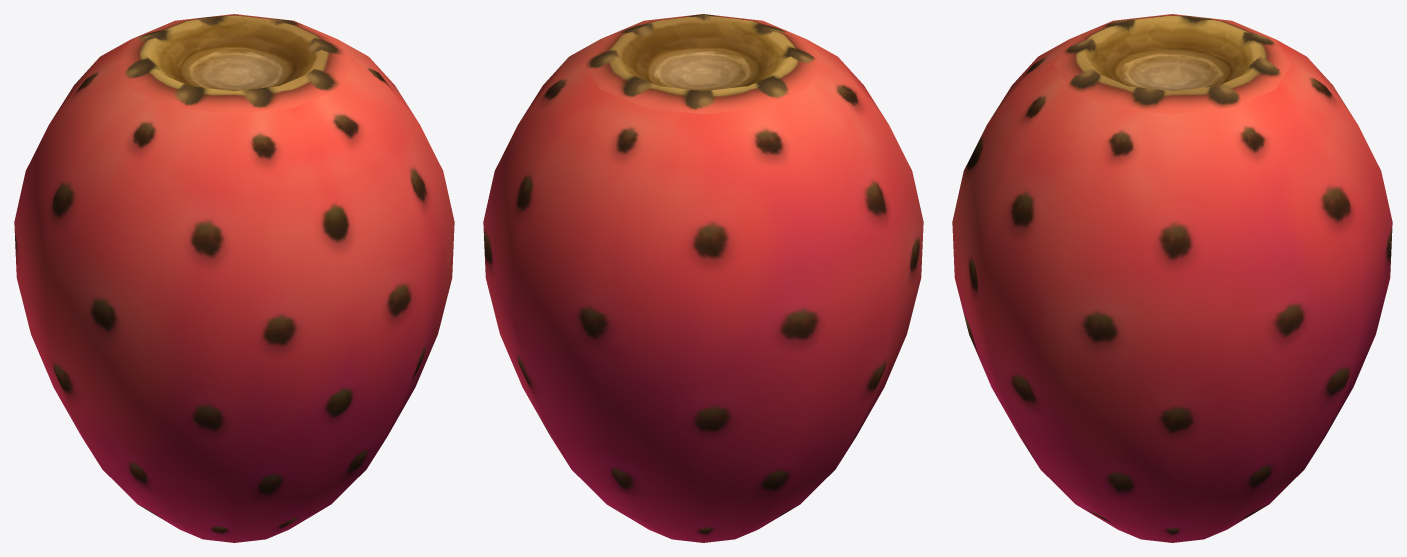
Rendered from PricklyPear_Pink.fbx.
The picture shows the model from 3 angles, left to right: view 1: azimuth 30°, elevation 25°; view 2: azimuth 150°, elevation 25°; view 3: azimuth 270°, elevation 25°; orthographic projection.
Visible parts, largest first — view 1: PricklyPear_Pink; view 2: PricklyPear_Pink; view 3: PricklyPear_Pink.
Part boxes in pixels (x1,y1,x2,y2): PricklyPear_Pink: [14, 14, 454, 542]; PricklyPear_Pink: [483, 14, 923, 542]; PricklyPear_Pink: [952, 14, 1392, 542].
Size of the model in its own units: 28.1 by 33.91 by 28.1.
